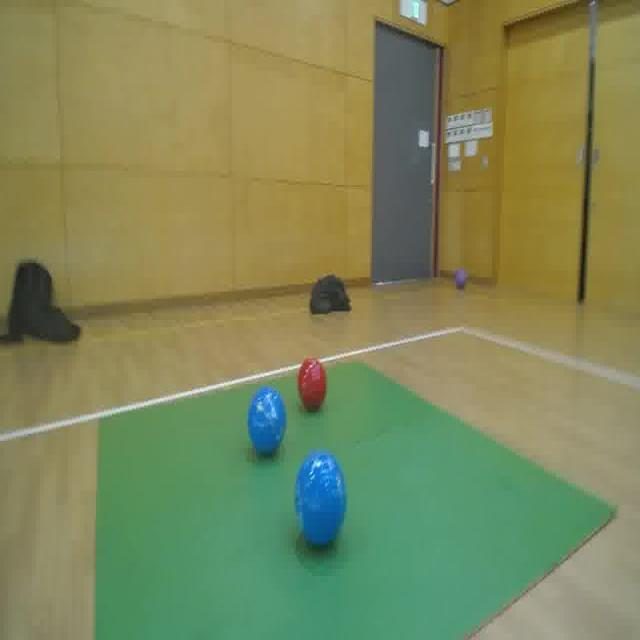blue_ball: (290, 446, 350, 552), (247, 384, 285, 458)
purple_ball: (450, 265, 468, 290)
red_ball: (294, 357, 330, 412)
